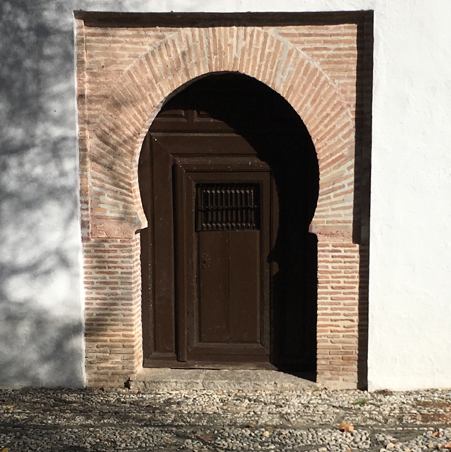arco-herradura: (113, 56, 329, 253)
